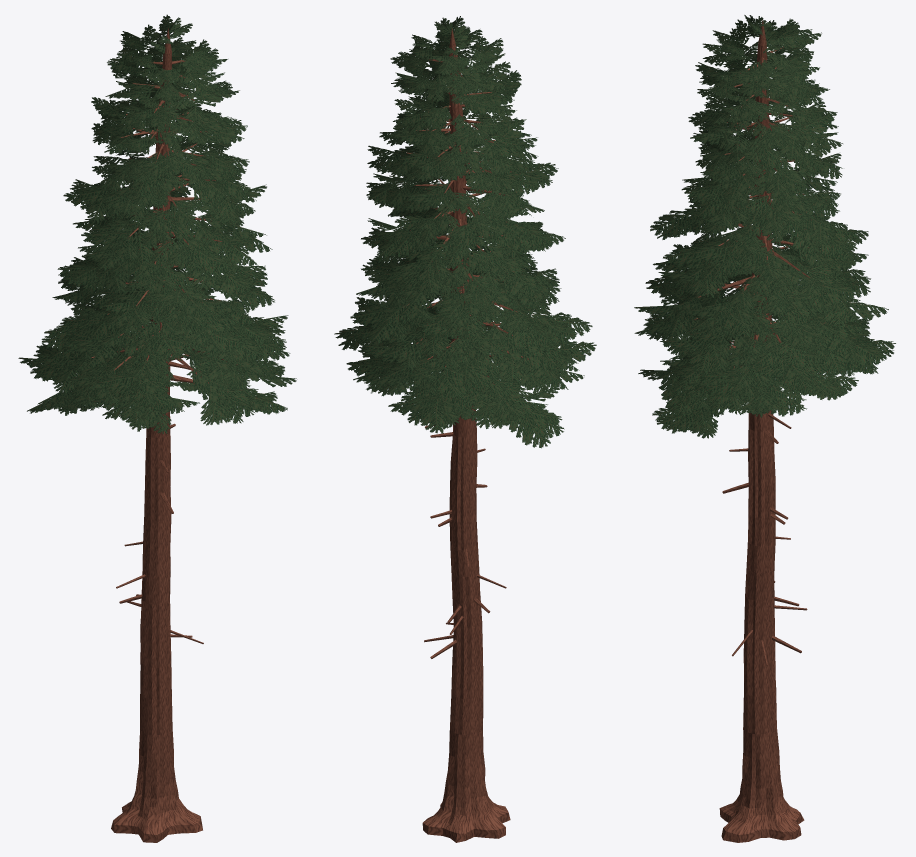
File: environment_redwood3_v2.fbx
3 renders of one model, left to right at view 1: azimuth 30°, elevation 25°; view 2: azimuth 150°, elevation 25°; view 3: azimuth 270°, elevation 25°, orthographic. The views are drawn at different scales.
Visible parts, largest first — view 1: environment_redwood3_v2_lod0; view 2: environment_redwood3_v2_lod0; view 3: environment_redwood3_v2_lod0.
Boxes of the visible parts, x1,y1,x2,y2 form: environment_redwood3_v2_lod0: [18, 14, 296, 842]; environment_redwood3_v2_lod0: [334, 16, 596, 842]; environment_redwood3_v2_lod0: [634, 15, 895, 842].
Size of what is drawn, in the model's own units: 3227 by 10167 by 3083.
